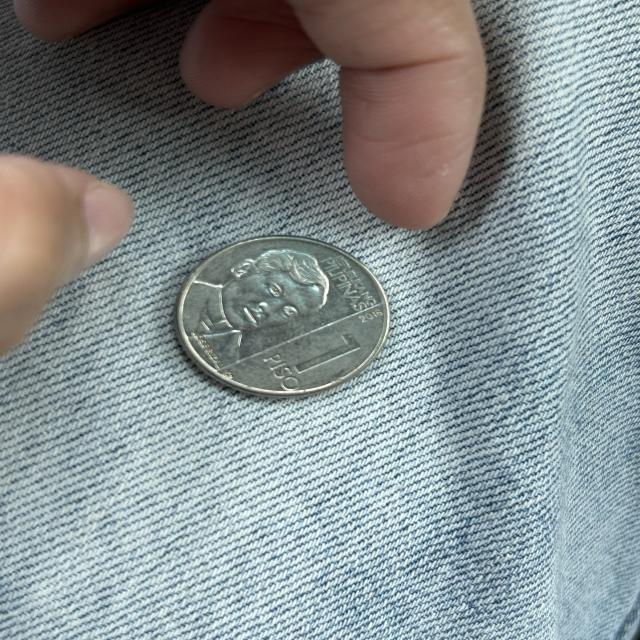1_New_Front: (265, 332, 355, 392)
